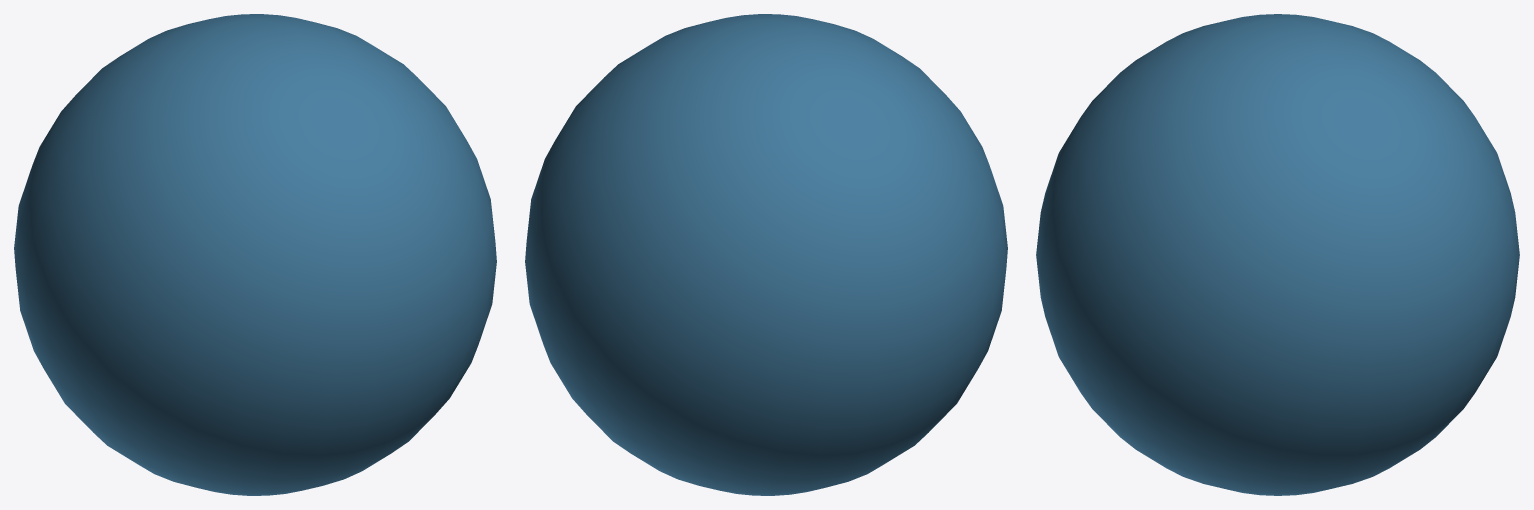
The model's file is globe.glb.
The picture shows the model from 3 angles, left to right: view 1: azimuth 30°, elevation 25°; view 2: azimuth 150°, elevation 25°; view 3: azimuth 270°, elevation 25°; orthographic projection.
Parts seen in each view (by area): view 1: coarse-reference-ellipsoid; view 2: coarse-reference-ellipsoid; view 3: coarse-reference-ellipsoid.
Part boxes in pixels (x1=…): coarse-reference-ellipsoid: x1=14, y1=14, x2=496, y2=495; coarse-reference-ellipsoid: x1=525, y1=14, x2=1007, y2=495; coarse-reference-ellipsoid: x1=1036, y1=14, x2=1519, y2=495.
Size of the model in its own units: 1.28e+07 by 1.27e+07 by 1.28e+07.
